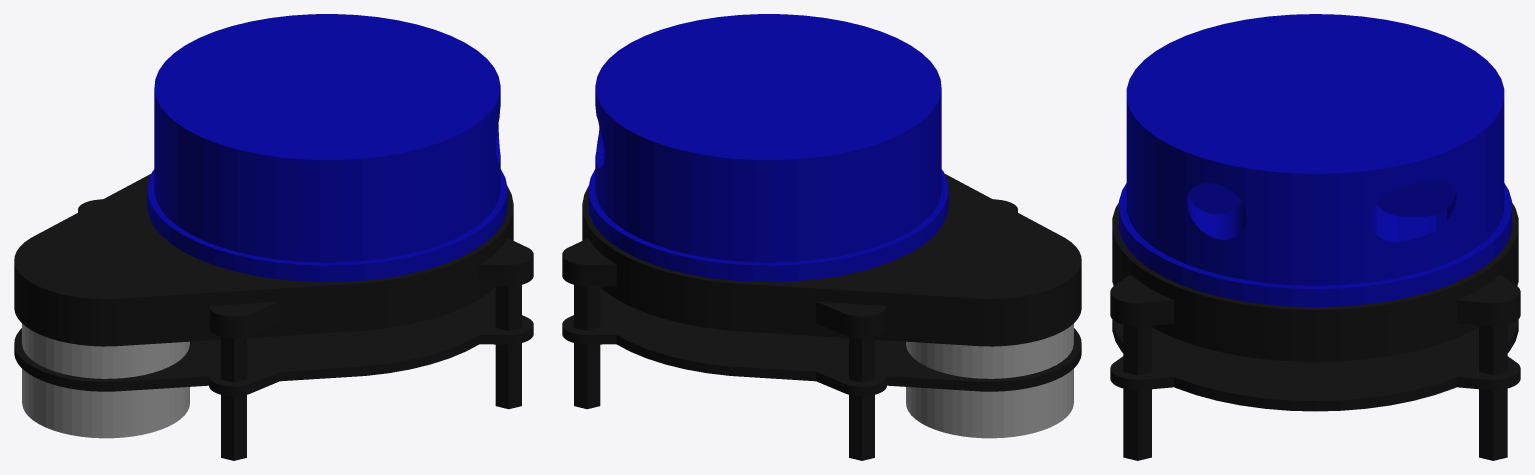
Rendered from mushr_nano_lidar.obj.
3 renders of one model, left to right at view 1: azimuth 30°, elevation 25°; view 2: azimuth 150°, elevation 25°; view 3: azimuth 270°, elevation 25°, orthographic. The views are drawn at different scales.
Visible parts, largest first — view 1: Racecar_Ydlidar_Top, Racecar_Ydlidar_Mount_Racecar_Ydlidar_Mount.001, Racecar_Ydlidar_Motor; view 2: Racecar_Ydlidar_Top, Racecar_Ydlidar_Mount_Racecar_Ydlidar_Mount.001, Racecar_Ydlidar_Motor; view 3: Racecar_Ydlidar_Top, Racecar_Ydlidar_Mount_Racecar_Ydlidar_Mount.001.
Part boxes in pixels (<box>): Racecar_Ydlidar_Top: <box>147,14,507,282</box>; Racecar_Ydlidar_Mount_Racecar_Ydlidar_Mount.001: <box>14,173,533,460</box>; Racecar_Ydlidar_Motor: <box>22,323,189,438</box>; Racecar_Ydlidar_Top: <box>588,14,948,282</box>; Racecar_Ydlidar_Mount_Racecar_Ydlidar_Mount.001: <box>562,173,1081,460</box>; Racecar_Ydlidar_Motor: <box>906,323,1073,438</box>; Racecar_Ydlidar_Top: <box>1119,14,1511,307</box>; Racecar_Ydlidar_Mount_Racecar_Ydlidar_Mount.001: <box>1110,202,1520,460</box>.
Bounding box in the file's own units: 1.02 × 0.59 × 0.7148.
